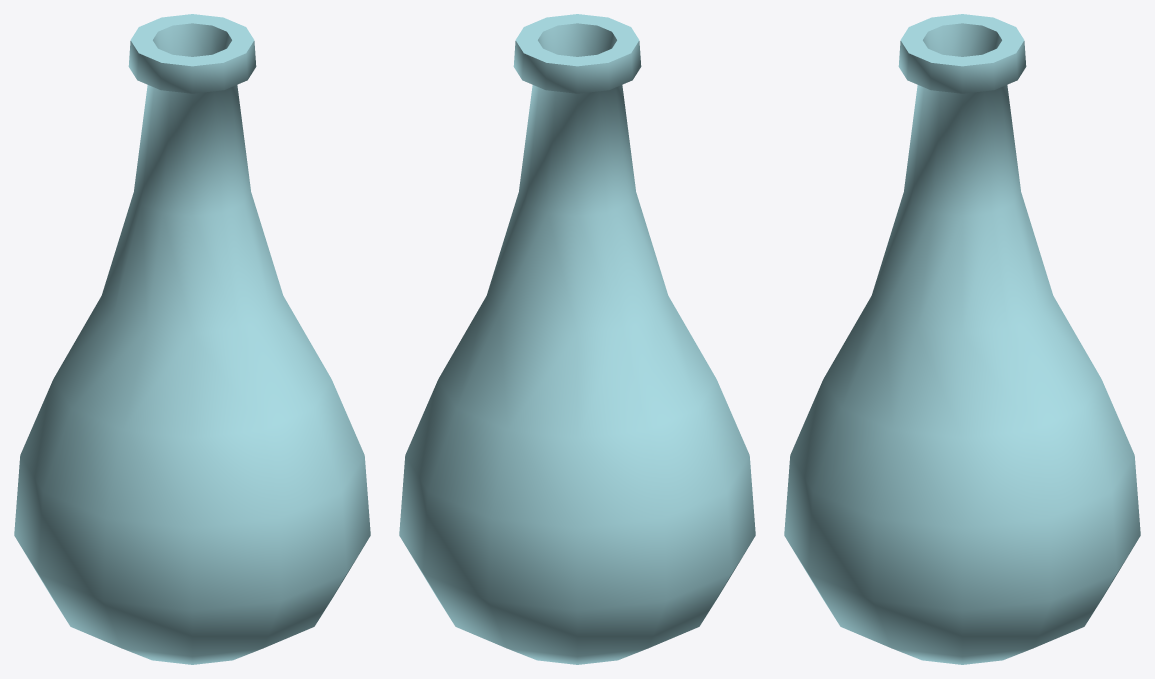
File: PotionBottleFilled3.fbx
3 renders of one model, left to right at view 1: azimuth 30°, elevation 25°; view 2: azimuth 150°, elevation 25°; view 3: azimuth 270°, elevation 25°, orthographic.
Visible parts, largest first — view 1: PotionBottleFilled3; view 2: PotionBottleFilled3; view 3: PotionBottleFilled3.
Part boxes in pixels (x1=…): PotionBottleFilled3: x1=14, y1=14, x2=370, y2=664; PotionBottleFilled3: x1=399, y1=14, x2=755, y2=664; PotionBottleFilled3: x1=784, y1=14, x2=1140, y2=664.
Bounding box in the file's own units: 11.53 × 21.08 × 11.53.
